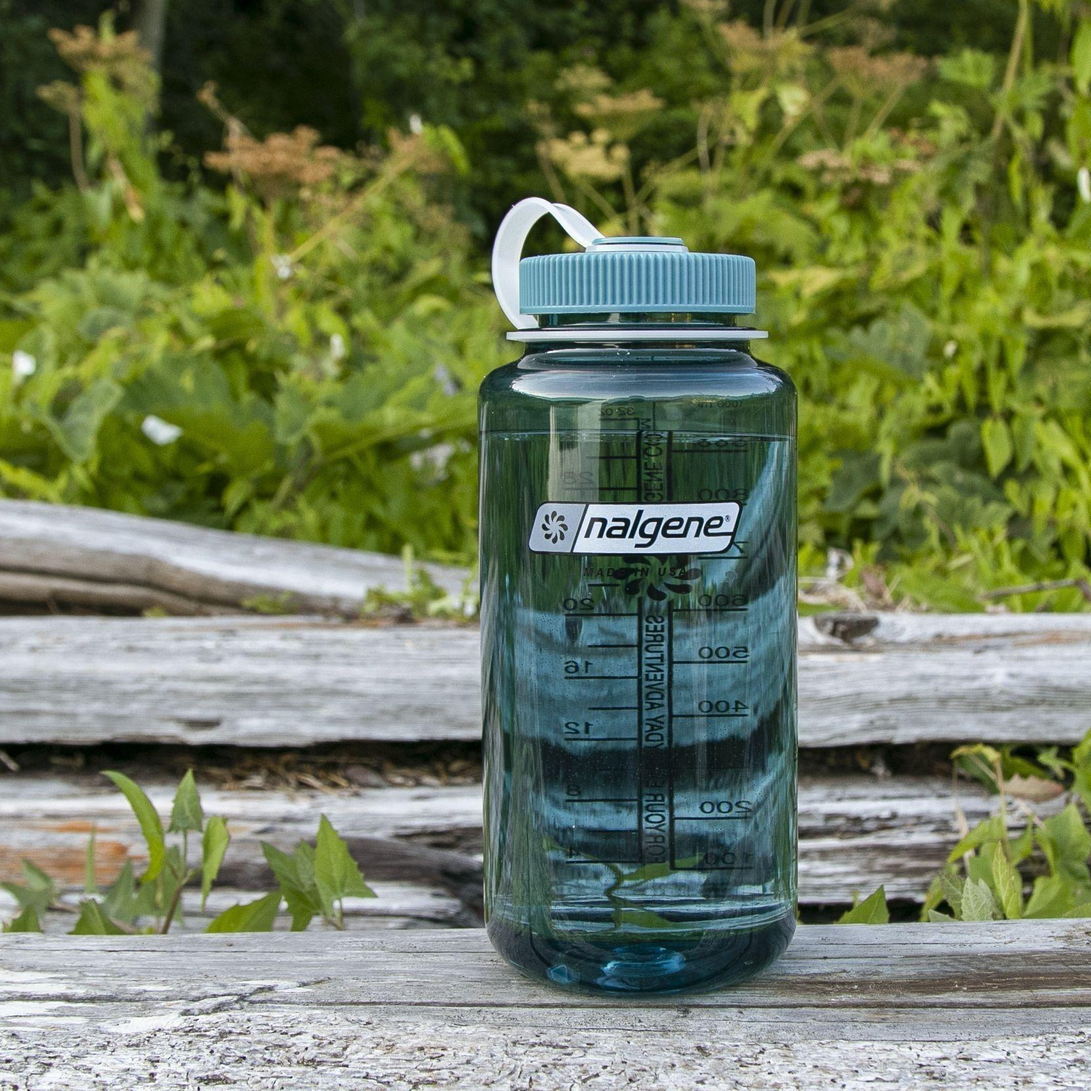gym bottle: (473, 190, 805, 997)
